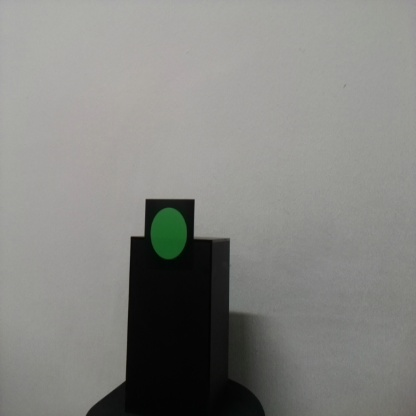id_5: (145, 200, 196, 274)
